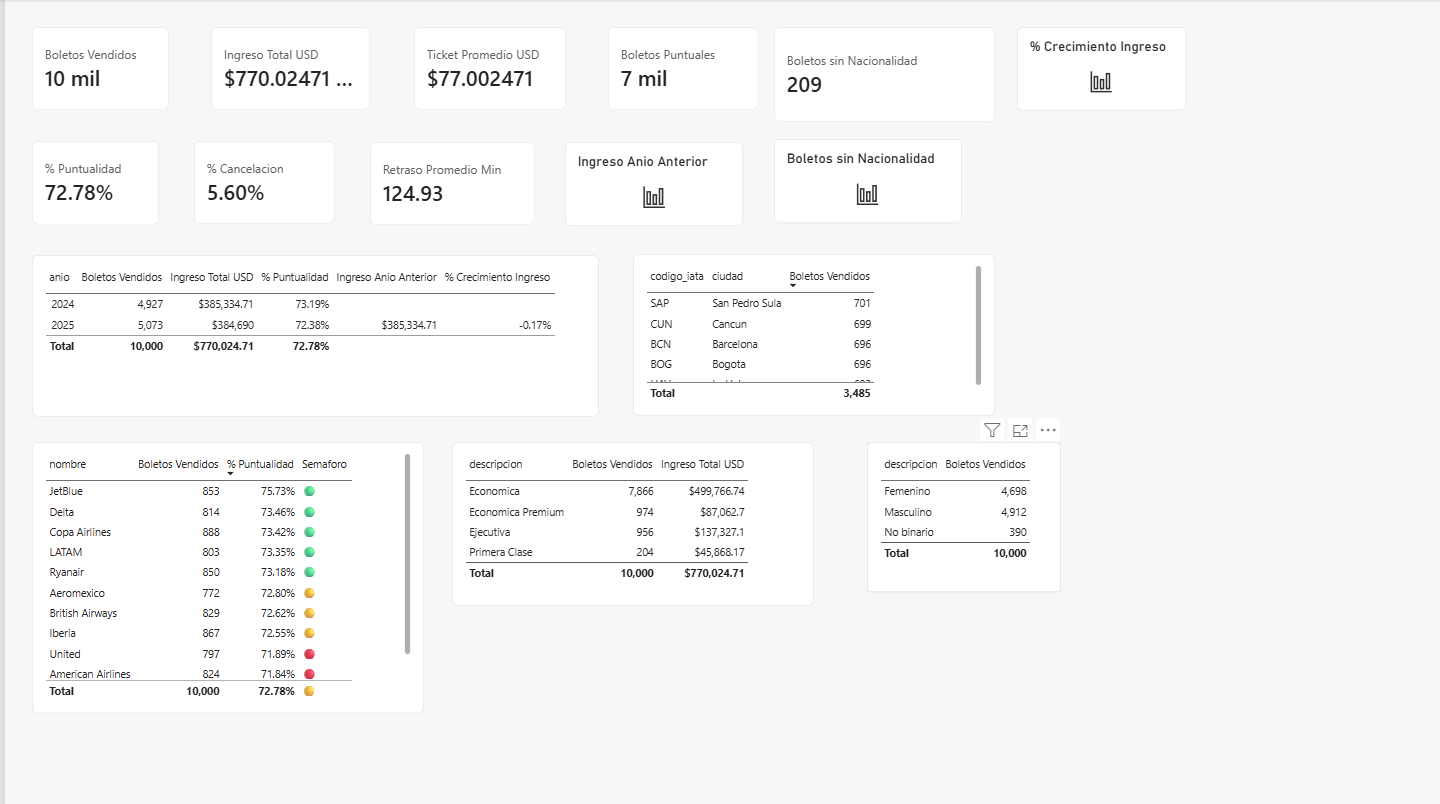

Layout of this report page (visuals, bound fields, positions):
{"tool":"powerbi","page":{"name":"Validacion","canvas":[1920,1080],"ordinal":0},"visuals":[{"type":"cardVisual","fields":{"Data":["Hecho_Boleto.Boletos Vendidos"]},"box":[35.3,36.9,182.9,110.7],"z":0},{"type":"cardVisual","fields":{"Data":["Hecho_Boleto.Ingreso Total USD"]},"box":[274.3,36.9,211.7,110.7],"z":1000},{"type":"cardVisual","fields":{"Data":["Hecho_Boleto.Ticket Promedio USD"]},"box":[543.8,36.9,202.1,110.7],"z":2000},{"type":"cardVisual","fields":{"Data":["Hecho_Boleto.Boletos Puntuales"]},"box":[802,36.9,200.5,110.7],"z":3000},{"type":"cardVisual","fields":{"Data":["Hecho_Boleto.% Puntualidad"]},"box":[35.5,188.5,169.8,112],"z":4000},{"type":"cardVisual","fields":{"Data":["Hecho_Boleto.% Cancelacion"]},"box":[251.9,188.5,187.7,110.7],"z":5000},{"type":"cardVisual","fields":{"Data":["Hecho_Boleto.Retraso Promedio Min"]},"box":[485.1,190.3,219.7,110.7],"z":6000},{"type":"cardVisual","fields":{"Data":["Hecho_Boleto.Boletos sin Nacionalidad"]},"box":[1022.5,37.3,294.8,126.9],"z":7000},{"type":"clusteredColumnChart","fields":{"Y":["Hecho_Boleto.Ingreso Anio Anterior"]},"box":[744.5,190.3,237.4,112.3],"z":8000},{"type":"clusteredColumnChart","fields":{"Y":["Hecho_Boleto.% Crecimiento Ingreso"]},"box":[1345.8,36.9,224.6,110.7],"z":9000},{"type":"clusteredColumnChart","fields":{"Y":["Hecho_Boleto.Boletos sin Nacionalidad"]},"box":[1022.5,186.6,250.2,112.3],"z":10000},{"type":"tableEx","fields":{"Values":["Dim_Fecha_Salida.anio","Hecho_Boleto.Boletos Vendidos","Hecho_Boleto.Ingreso Total USD","Hecho_Boleto.% Puntualidad","Hecho_Boleto.Ingreso Anio Anterior","Hecho_Boleto.% Crecimiento Ingreso"]},"box":[35.5,340.2,753.9,214.9],"z":11000},{"type":"tableEx","fields":{"Values":["Dim_Aerolinea.nombre","Hecho_Boleto.Boletos Vendidos","Hecho_Boleto.% Puntualidad","Hecho_Boleto.Semaforo"]},"box":[35.3,588.7,521.3,360.9],"z":12000},{"type":"tableEx","fields":{"Values":["Dim_Aeropuerto_Destino.codigo_iata","Dim_Aeropuerto_Destino.ciudad","Hecho_Boleto.Boletos Vendidos"]},"box":[835.9,339.6,481.4,214.6],"z":14000},{"type":"tableEx","fields":{"Values":["Dim_ClaseCabina.descripcion","Hecho_Boleto.Boletos Vendidos","Hecho_Boleto.Ingreso Total USD"]},"box":[595.1,588.7,481.2,218.1],"z":15000},{"type":"tableEx","fields":{"Values":["Dim_Genero.descripcion","Hecho_Boleto.Boletos Vendidos"]},"box":[1146.9,588.7,258.2,200.5],"z":16000}]}

Visuals, with their boxes in screenshot pixels (x1, y1, x2, y2), scaled from the page's 1920x1080 canvas onto the 1440x804 screenshot:
cardVisual - Hecho_Boleto.Boletos Vendidos: (left=26, top=27, right=164, bottom=110)
cardVisual - Hecho_Boleto.Ingreso Total USD: (left=206, top=27, right=364, bottom=110)
cardVisual - Hecho_Boleto.Ticket Promedio USD: (left=408, top=27, right=559, bottom=110)
cardVisual - Hecho_Boleto.Boletos Puntuales: (left=602, top=27, right=752, bottom=110)
cardVisual - Hecho_Boleto.% Puntualidad: (left=27, top=140, right=154, bottom=224)
cardVisual - Hecho_Boleto.% Cancelacion: (left=189, top=140, right=330, bottom=223)
cardVisual - Hecho_Boleto.Retraso Promedio Min: (left=364, top=142, right=529, bottom=224)
cardVisual - Hecho_Boleto.Boletos sin Nacionalidad: (left=767, top=28, right=988, bottom=122)
clusteredColumnChart - Hecho_Boleto.Ingreso Anio Anterior: (left=558, top=142, right=736, bottom=225)
clusteredColumnChart - Hecho_Boleto.% Crecimiento Ingreso: (left=1009, top=27, right=1178, bottom=110)
clusteredColumnChart - Hecho_Boleto.Boletos sin Nacionalidad: (left=767, top=139, right=955, bottom=223)
tableEx - Dim_Fecha_Salida.anio x Hecho_Boleto.Boletos Vendidos: (left=27, top=253, right=592, bottom=413)
tableEx - Dim_Aerolinea.nombre x Hecho_Boleto.Boletos Vendidos: (left=26, top=438, right=417, bottom=707)
tableEx - Dim_Aeropuerto_Destino.codigo_iata x Dim_Aeropuerto_Destino.ciudad: (left=627, top=253, right=988, bottom=413)
tableEx - Dim_ClaseCabina.descripcion x Hecho_Boleto.Boletos Vendidos: (left=446, top=438, right=807, bottom=601)
tableEx - Dim_Genero.descripcion x Hecho_Boleto.Boletos Vendidos: (left=860, top=438, right=1054, bottom=588)
